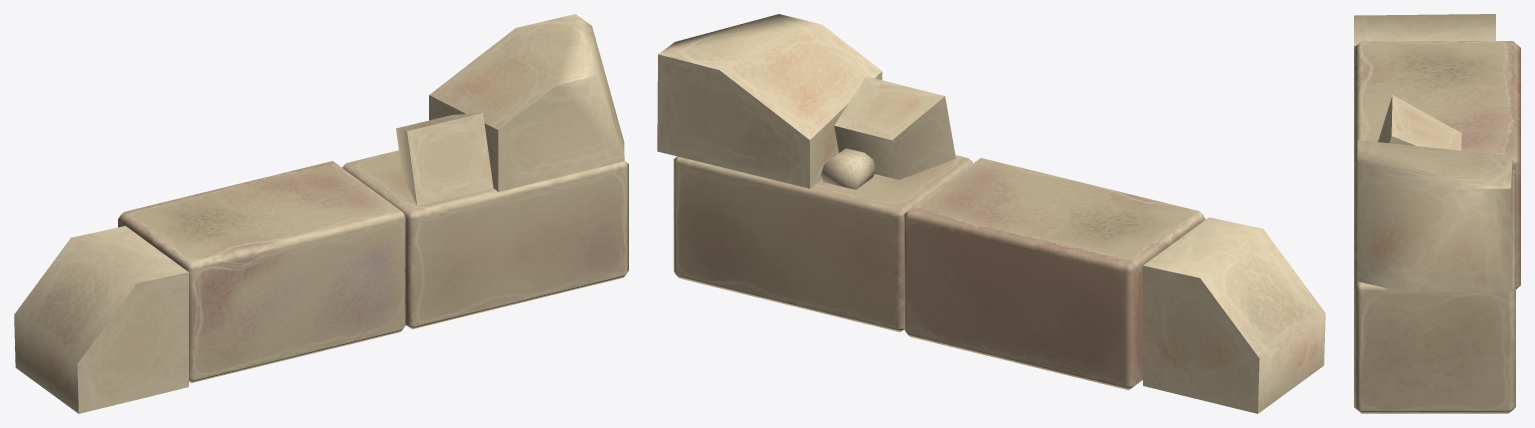
File: rubbles1.fbx
3 renders of one model, left to right at view 1: azimuth 30°, elevation 25°; view 2: azimuth 150°, elevation 25°; view 3: azimuth 270°, elevation 25°, orthographic. The views are drawn at different scales.
Visible parts, largest first — view 1: rubbles_LOD0; view 2: rubbles_LOD0; view 3: rubbles_LOD0.
Part boxes in pixels (left/top/right/bottom): rubbles_LOD0: left=14, top=14, right=628, bottom=413; rubbles_LOD0: left=657, top=14, right=1325, bottom=413; rubbles_LOD0: left=1354, top=14, right=1520, bottom=413.
Bounding box in the file's own units: 2.04 × 0.7233 × 0.4631.
